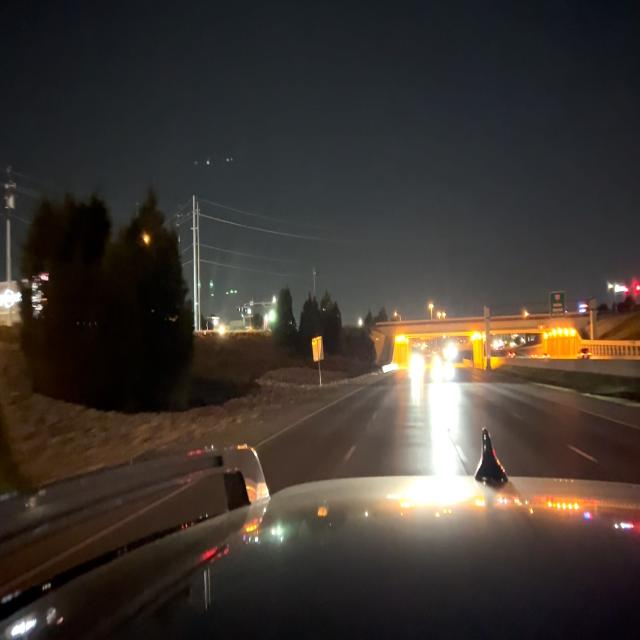back-of-sign: (313, 337, 323, 363)
